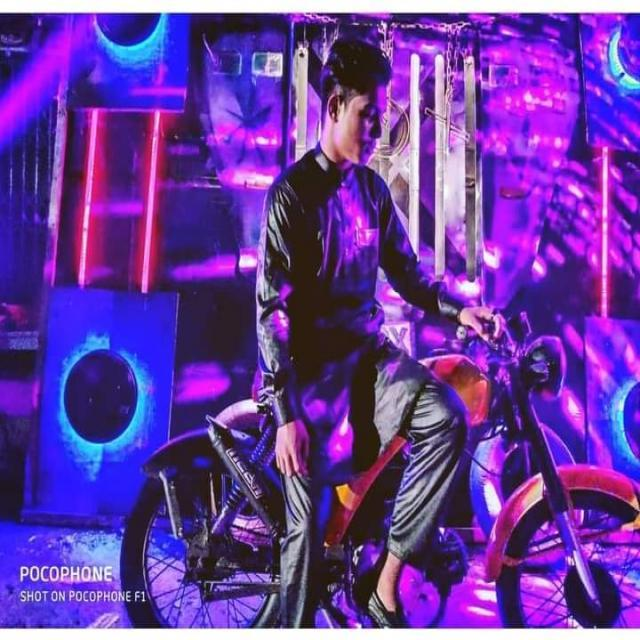No helmet: (317, 47, 393, 176)
